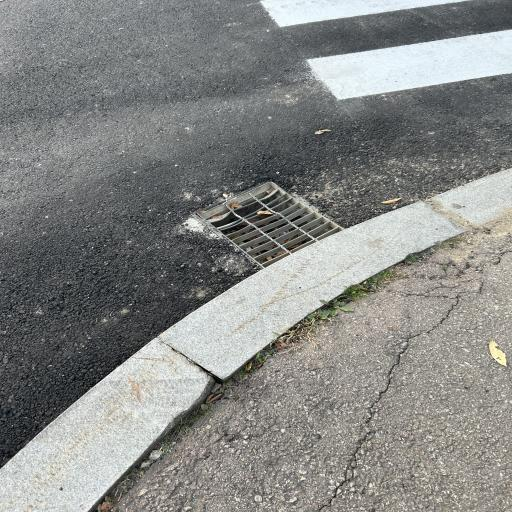debris: (229, 201, 240, 208), (257, 210, 271, 215)
drain: (198, 182, 343, 267)
